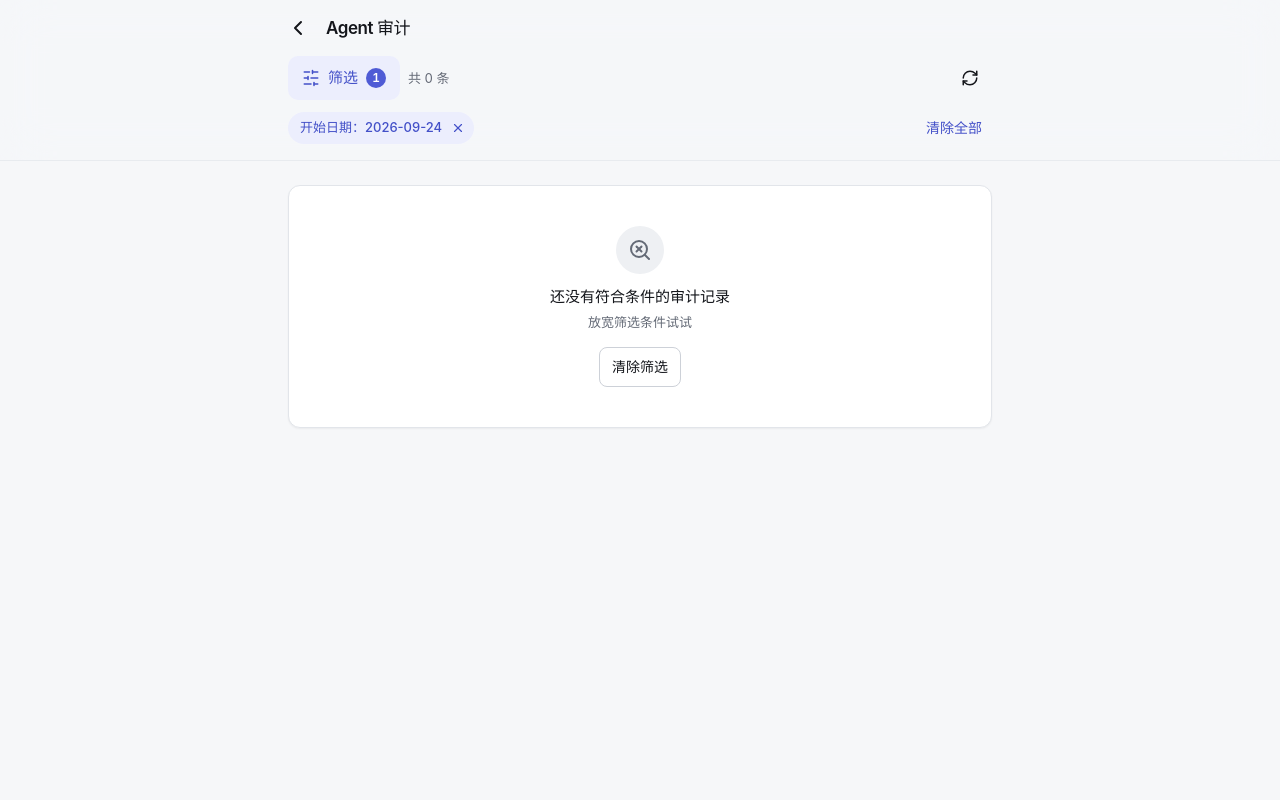
it: Agent audit page › A4 restores the date control from the ISO since value in a shared URL
Expected: the text "还没有符合条件的审计记录" is shown, [550,286,730,308]
Expected: the button named "移除筛选条件：开始日期：2026-09-24" is shown, [446,116,470,140]
Click the button "筛选 1": (344, 78) [288,56,400,100]
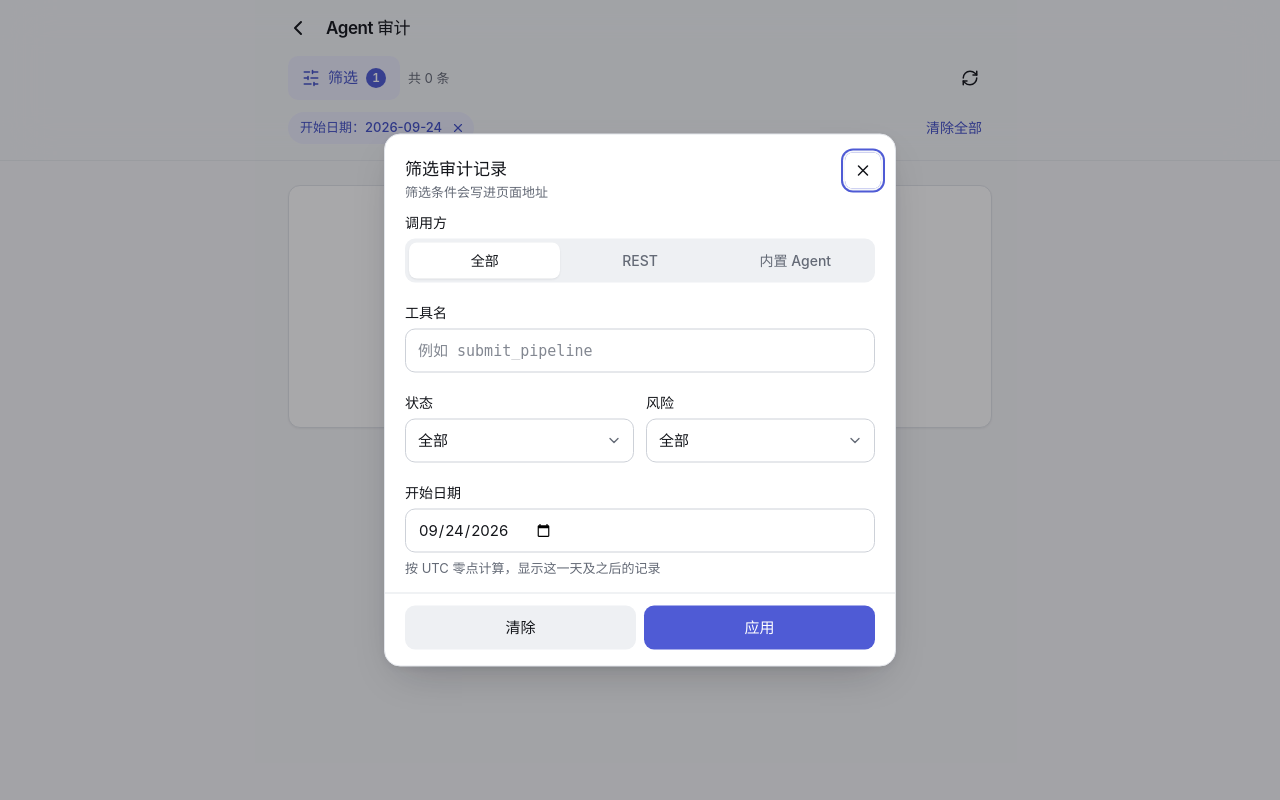
Now the date field labelled "开始日期" holds "2026-09-24", box [405,508,875,552]
